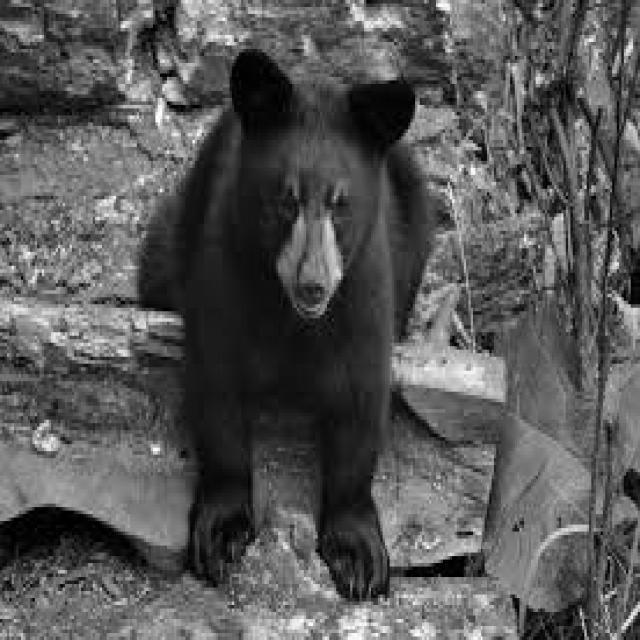Bear: (163, 49, 414, 600)
